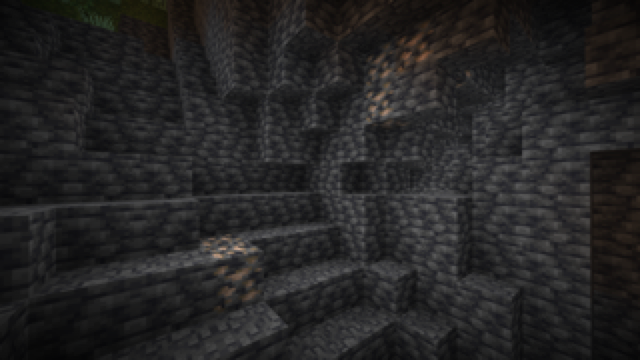iron: (363, 23, 435, 132), (194, 233, 267, 311)
